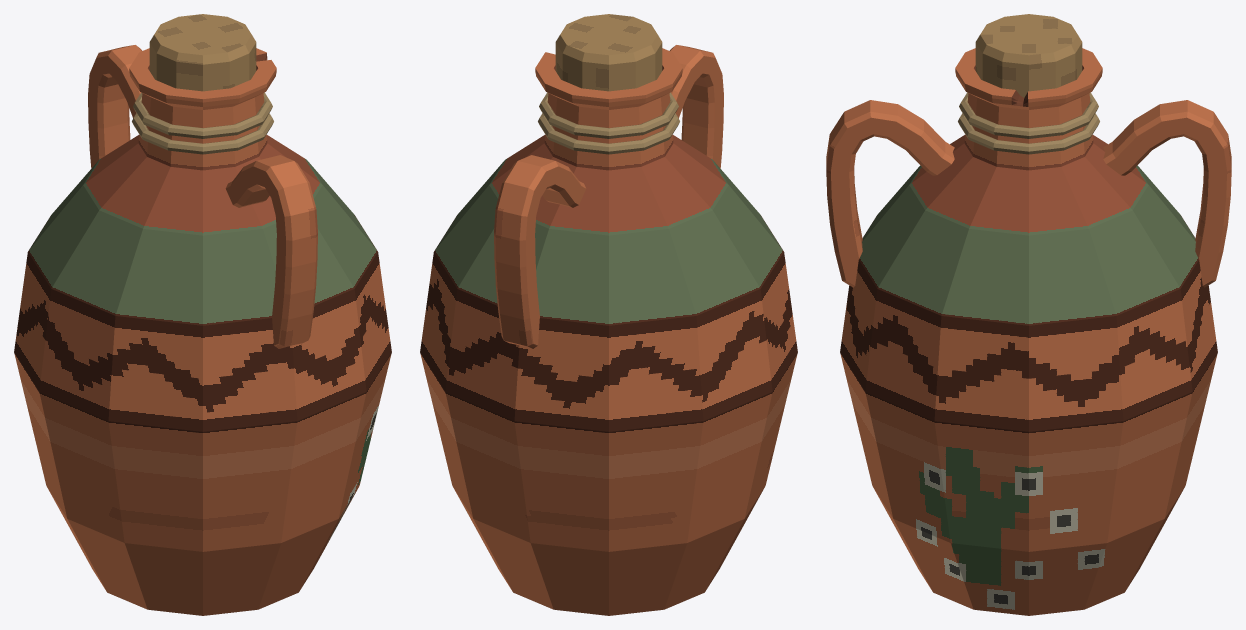
The model's file is 捞获-双耳陶罐.glb.
3 renders of one model, left to right at view 1: azimuth 30°, elevation 25°; view 2: azimuth 150°, elevation 25°; view 3: azimuth 270°, elevation 25°, orthographic.
Parts seen in each view (by area): view 1: matte_oil_amphora; view 2: matte_oil_amphora; view 3: matte_oil_amphora.
Boxes of the visible parts, x1,y1,x2,y2 form: matte_oil_amphora: [14, 14, 391, 615]; matte_oil_amphora: [420, 14, 797, 615]; matte_oil_amphora: [826, 14, 1231, 615].
Size of the model in its own units: 0.41 by 0.66 by 0.44.
Materials: 1 (1 with a texture image).
